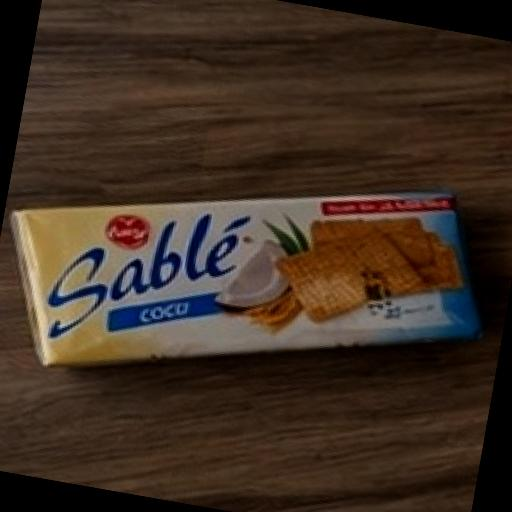sabl: (0, 107, 512, 483)
